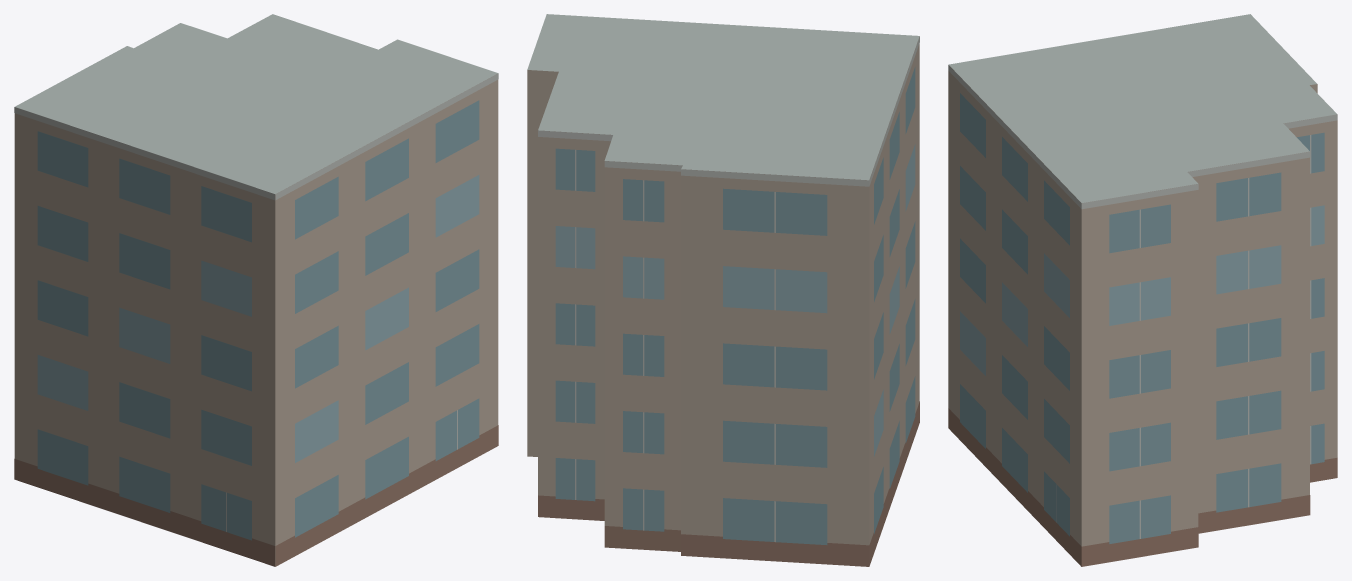
Rendered from survey-upis-32758791.glb.
The picture shows the model from 3 angles, left to right: view 1: azimuth 30°, elevation 25°; view 2: azimuth 150°, elevation 25°; view 3: azimuth 270°, elevation 25°; orthographic projection. The views are drawn at different scales.
Visible parts, largest first — view 1: survey-upis-32758791.tmp; view 2: survey-upis-32758791.tmp; view 3: survey-upis-32758791.tmp.
Boxes of the visible parts, box(x1,y1,x2,y2) form: survey-upis-32758791.tmp: box(14, 14, 498, 566); survey-upis-32758791.tmp: box(527, 14, 919, 566); survey-upis-32758791.tmp: box(948, 14, 1337, 566).
Bounding box in the file's own units: 16.3 × 14.6 × 14.17.
